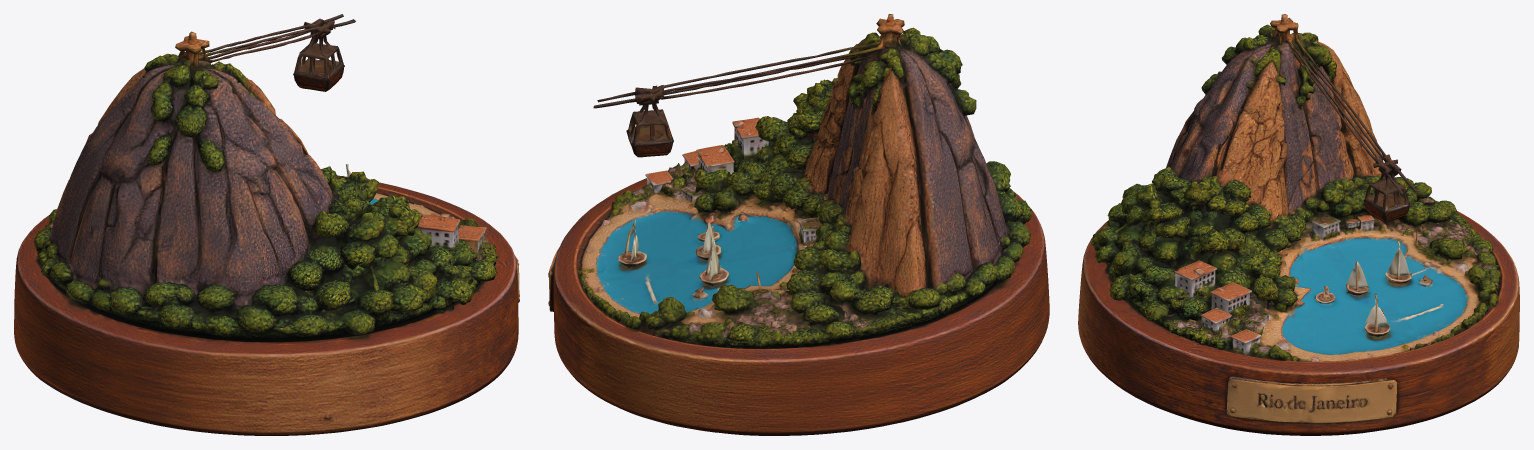
The model's file is rio-mobile.glb.
3 renders of one model, left to right at view 1: azimuth 30°, elevation 25°; view 2: azimuth 150°, elevation 25°; view 3: azimuth 270°, elevation 25°, orthographic. The views are drawn at different scales.
Parts seen in each view (by area): view 1: tripo_node_cc1d720c-6159-40c9-b685-e98e4119eaf1; view 2: tripo_node_cc1d720c-6159-40c9-b685-e98e4119eaf1; view 3: tripo_node_cc1d720c-6159-40c9-b685-e98e4119eaf1.
Part boxes in pixels (box(x1,y1,x2,y2)): tripo_node_cc1d720c-6159-40c9-b685-e98e4119eaf1: box(14, 14, 519, 435); tripo_node_cc1d720c-6159-40c9-b685-e98e4119eaf1: box(548, 14, 1049, 435); tripo_node_cc1d720c-6159-40c9-b685-e98e4119eaf1: box(1078, 14, 1519, 435).
Size of the model in its own units: 0.9763 by 0.7257 by 0.9739.
1 material, 1 textured.
